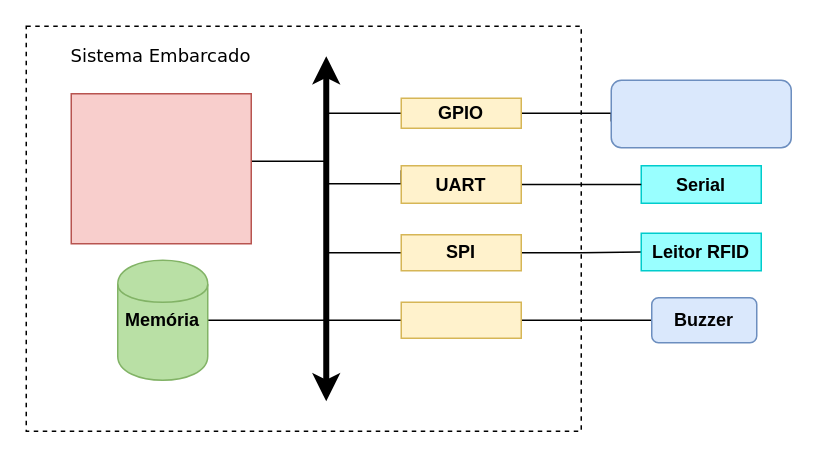
This 818x458 diagram has some shape labels left out. The box of each missing label's shape, as (x1, y1, x2, y2) in pixels:
CPU: (70, 92, 251, 244)
DAC: (400, 301, 521, 338)
LED / Porta / Botões: (610, 79, 791, 148)
